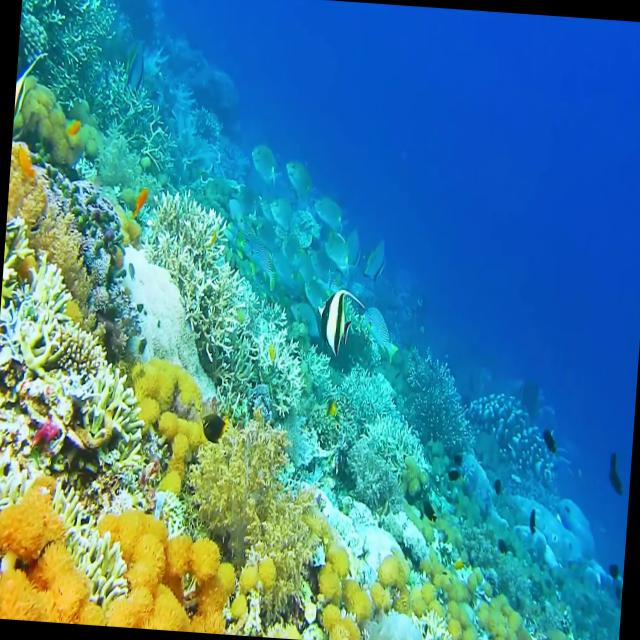fish: (309, 290, 365, 352), (361, 298, 399, 366), (198, 400, 230, 458)
